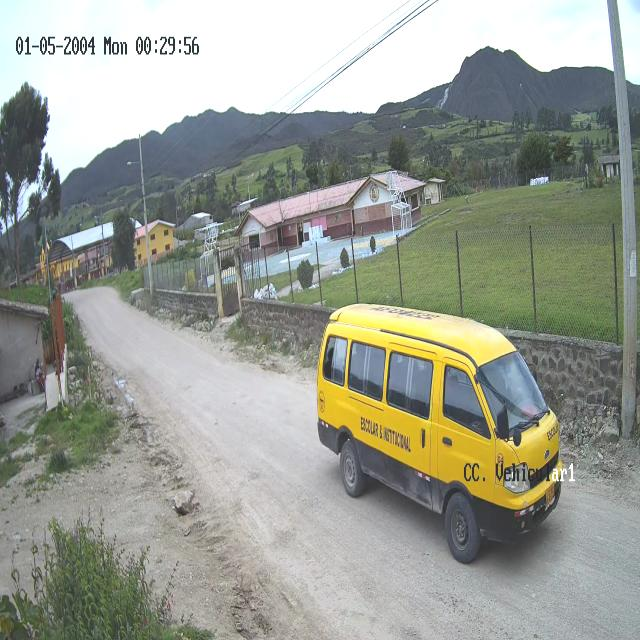BUS: (315, 306, 562, 566)
